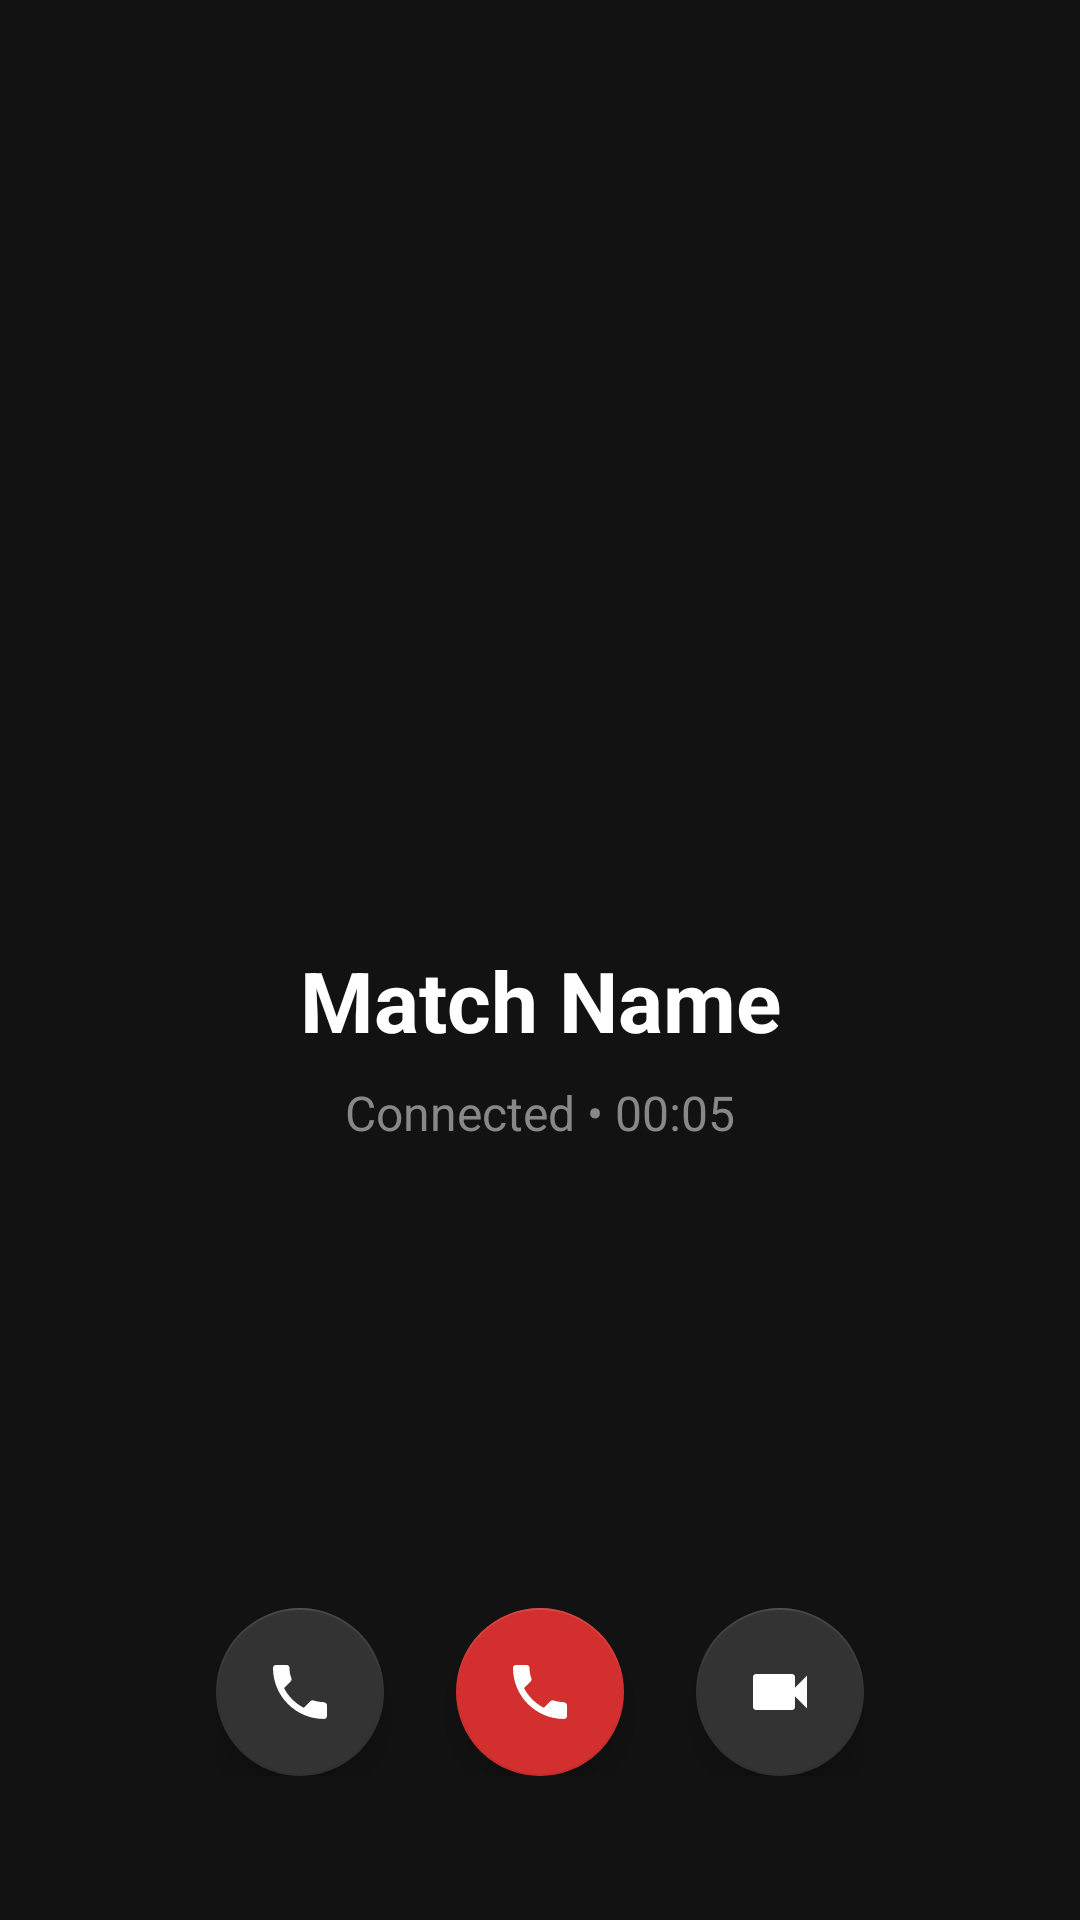

Where icons sit on this 1080×1920 app screen, as (x1, y1, x2, y2):
call: (216, 1608, 384, 1776), (456, 1608, 624, 1776)
videocam: (696, 1608, 864, 1776)
